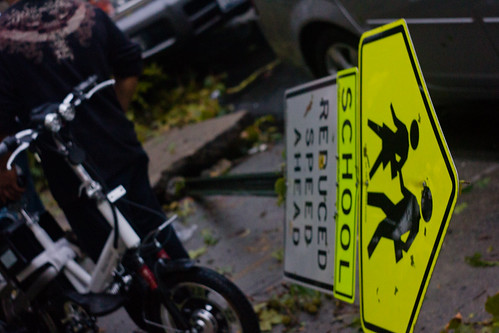bicicle: (13, 99, 249, 333)
sign: (272, 11, 460, 333)
